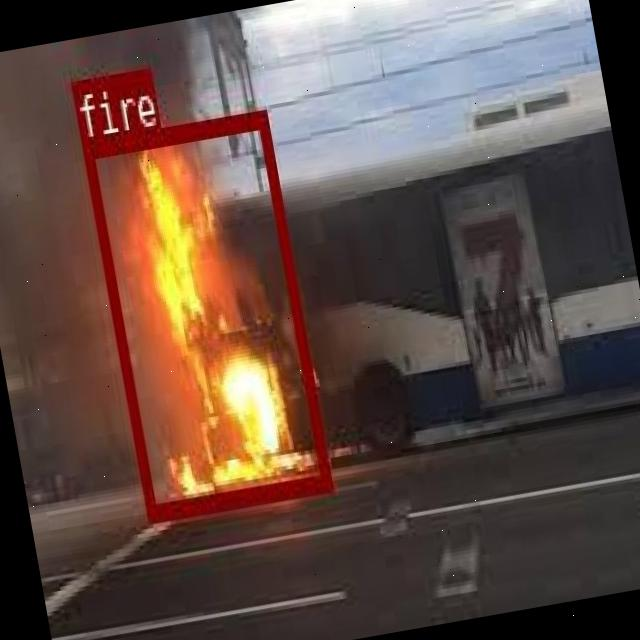fire: (80, 108, 330, 521)
